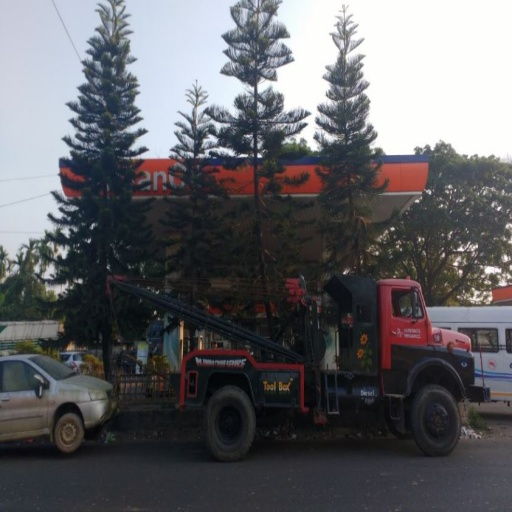roof: (54, 153, 431, 224)
